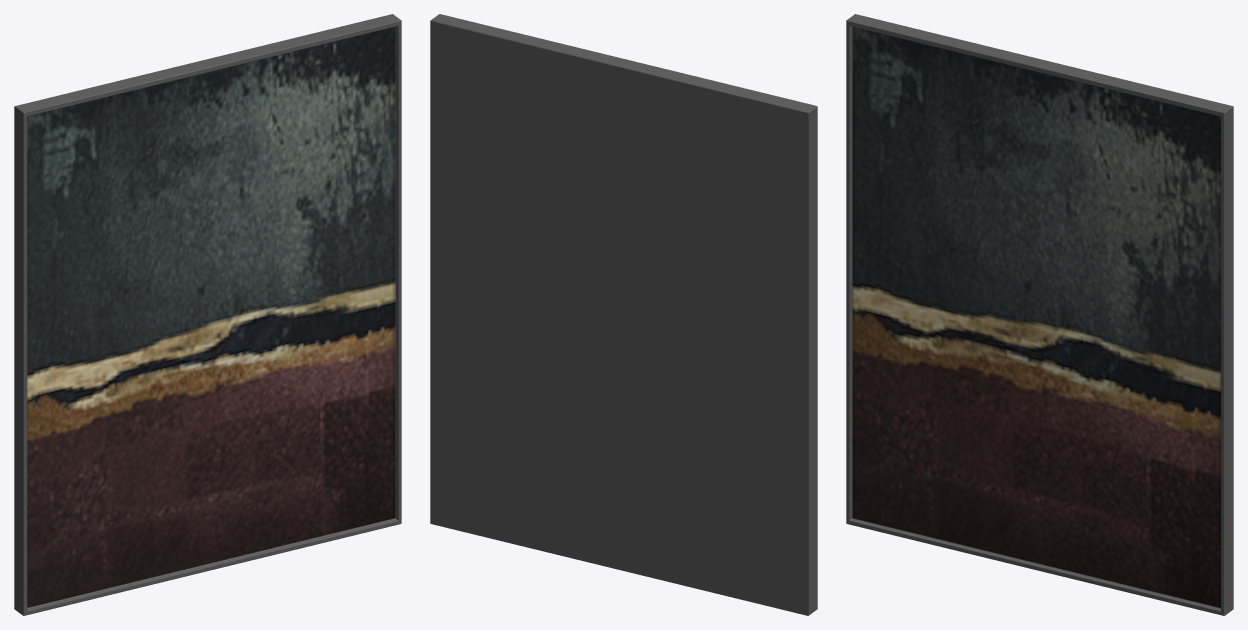
File: quadro2.glb
The picture shows the model from 3 angles, left to right: view 1: azimuth 30°, elevation 25°; view 2: azimuth 150°, elevation 25°; view 3: azimuth 330°, elevation 25°; orthographic projection.
Visible parts, largest first — view 1: 3DSMeshMatrix; view 2: 3DSMeshMatrix; view 3: 3DSMeshMatrix.
Boxes of the visible parts, <box> form: 3DSMeshMatrix: <box>14,14,401,615</box>; 3DSMeshMatrix: <box>430,14,817,615</box>; 3DSMeshMatrix: <box>846,14,1233,615</box>.
Bounding box in the file's own units: 0.4661 × 0.5926 × 0.0197.
2 materials, 1 textured.
